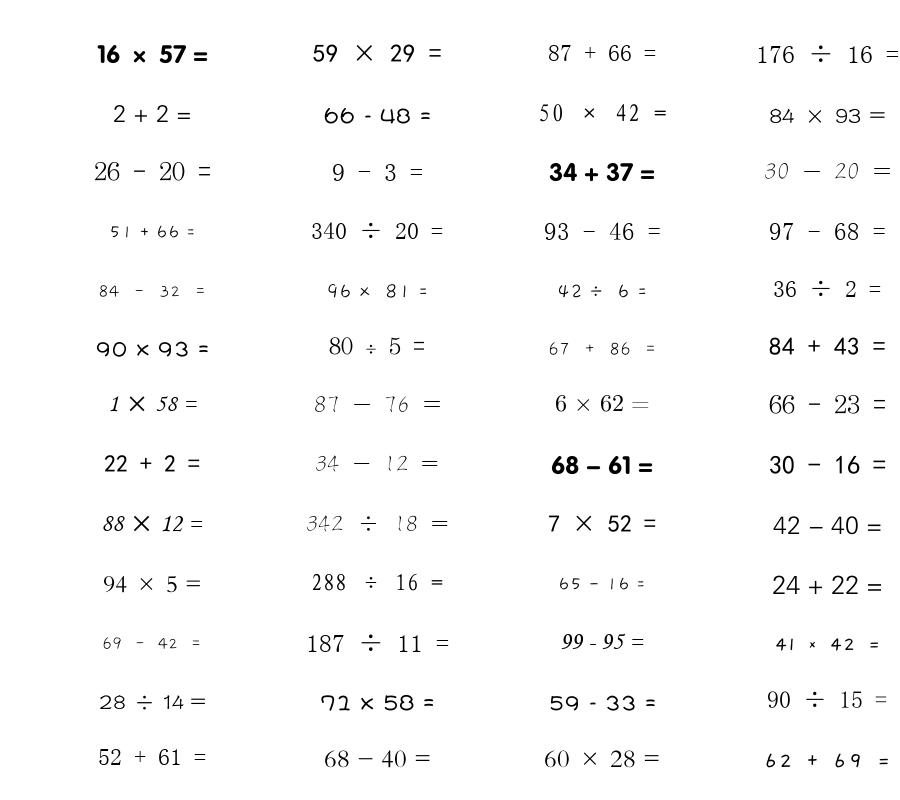MQ: (756, 45, 899, 63), (306, 634, 449, 652), (306, 515, 449, 532), (311, 573, 443, 591), (94, 161, 211, 181), (769, 394, 886, 414), (769, 455, 886, 475), (313, 44, 442, 62), (538, 104, 667, 122), (311, 222, 443, 239), (97, 44, 208, 64), (314, 396, 441, 413), (549, 162, 655, 182), (772, 575, 883, 594), (315, 455, 439, 472), (544, 222, 661, 240), (769, 337, 886, 355), (544, 750, 660, 768), (773, 516, 882, 535), (551, 455, 653, 475), (767, 691, 887, 708), (764, 163, 891, 179), (769, 223, 886, 240), (320, 694, 435, 711), (324, 750, 431, 768), (763, 753, 891, 768), (769, 108, 886, 124), (773, 280, 881, 297), (548, 515, 656, 532), (324, 107, 431, 124), (96, 341, 209, 357), (101, 515, 203, 532), (548, 45, 656, 61), (329, 337, 425, 355), (98, 749, 206, 765), (549, 695, 656, 711), (555, 394, 650, 412), (103, 576, 202, 593), (326, 283, 428, 299), (104, 455, 200, 472), (99, 695, 206, 710), (332, 164, 423, 181), (548, 342, 657, 356), (108, 396, 197, 412), (98, 285, 207, 298), (774, 638, 881, 651), (557, 284, 647, 299), (560, 633, 644, 649), (113, 105, 192, 122), (102, 637, 202, 650), (558, 577, 646, 591), (109, 225, 196, 239)
